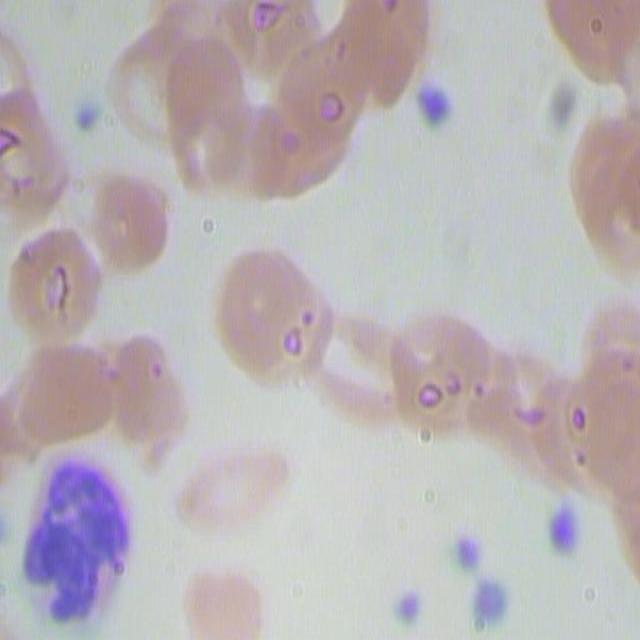RBC: (212, 230, 340, 391), (381, 299, 517, 450), (86, 318, 188, 474), (296, 302, 402, 429), (565, 104, 637, 274), (0, 50, 68, 228), (12, 224, 106, 345), (326, 2, 427, 109), (110, 27, 194, 154), (541, 0, 637, 77)
WBC: (36, 448, 123, 620)
platelets: (464, 560, 517, 640), (544, 493, 586, 573), (412, 70, 460, 136), (446, 526, 488, 577), (389, 588, 427, 637)
